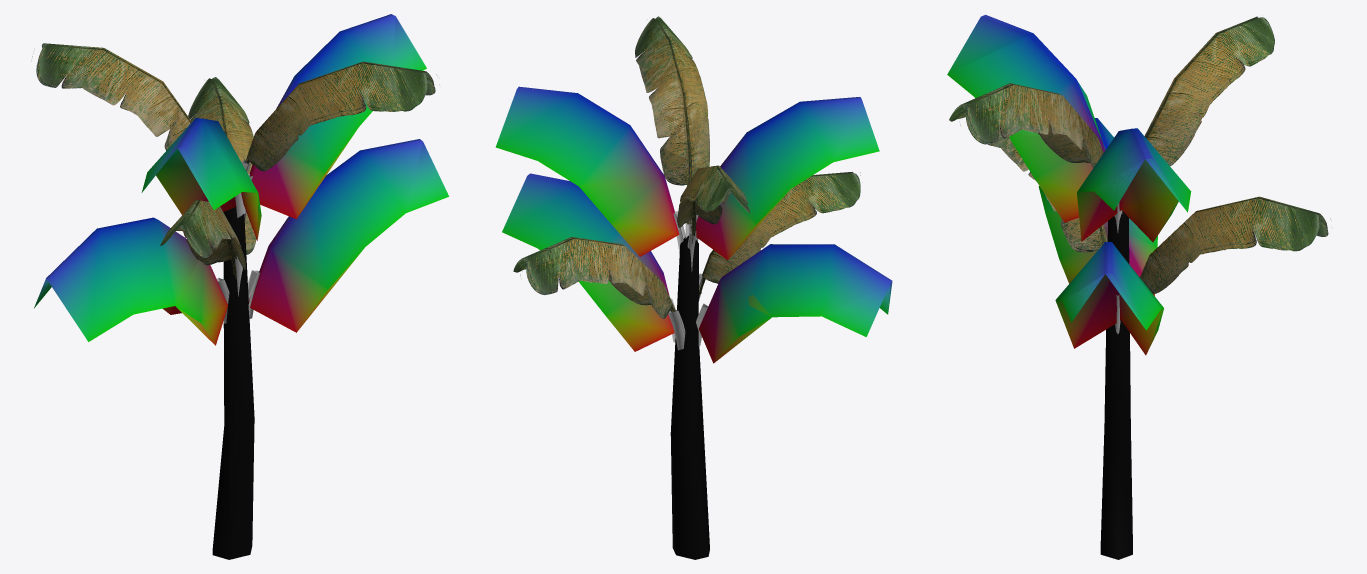
File: Banana01.DAE
3 renders of one model, left to right at view 1: azimuth 30°, elevation 25°; view 2: azimuth 150°, elevation 25°; view 3: azimuth 270°, elevation 25°, orthographic. The views are drawn at different scales.
Visible parts, largest first — view 1: Banana256, Banana128; view 2: Banana256, Banana128; view 3: Banana256, Banana128.
Part boxes in pixels (left/top/right/bottom): Banana256: left=34, top=14, right=448, bottom=559; Banana128: left=32, top=16, right=438, bottom=558; Banana256: left=495, top=16, right=892, bottom=559; Banana128: left=517, top=52, right=890, bottom=556; Banana256: left=947, top=14, right=1331, bottom=559; Banana128: left=947, top=22, right=1328, bottom=355.
Size of what is drawn, in the model's own units: 453 by 430 by 553.
